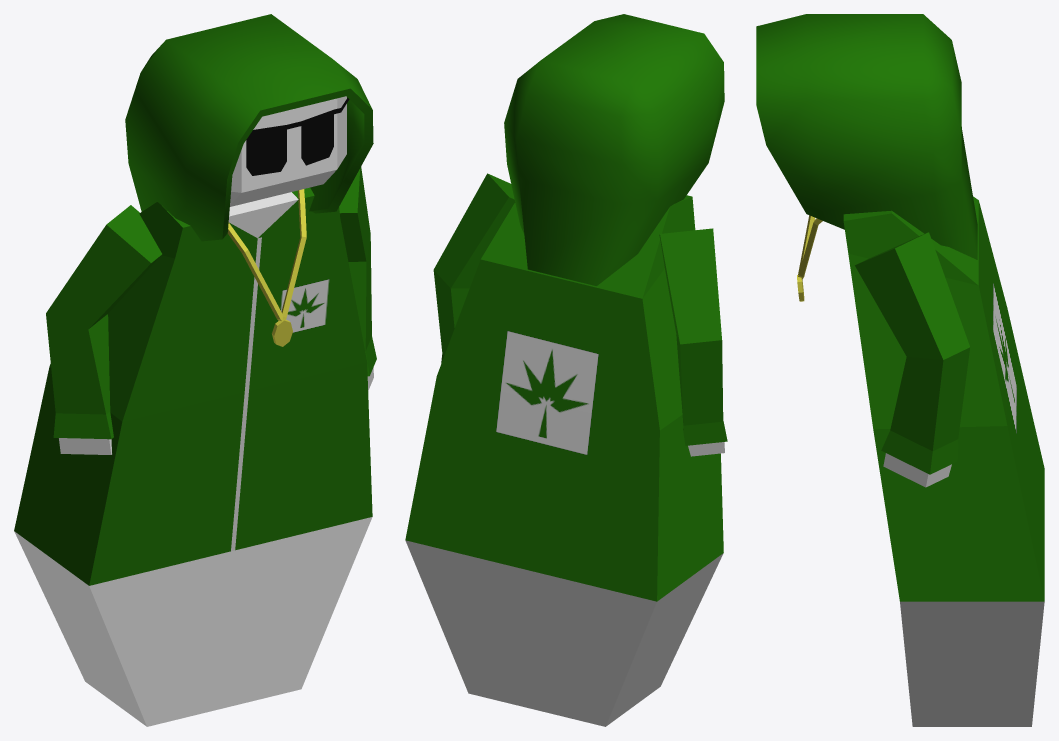
Rendered from buyer.fbx.
3 views of the same model, side by side, from view 1: azimuth 30°, elevation 25°; view 2: azimuth 150°, elevation 25°; view 3: azimuth 270°, elevation 25° (orthographic). The views are drawn at different scales.
Visible parts, largest first — view 1: Cube.037, Cube.040, Cube.039, Cube.036, Cube.038, Circle.004; view 2: Cube.037, Cube.040, Cube.039; view 3: Cube.037, Cube.040, Cube.039, Circle.004.
Part boxes in pixels (<box>): Cube.037: <box>14,187,372,726</box>; Cube.040: <box>125,14,373,241</box>; Cube.039: <box>46,166,376,454</box>; Cube.036: <box>230,96,346,206</box>; Cube.038: <box>246,97,349,175</box>; Circle.004: <box>227,189,306,320</box>; Cube.037: <box>405,195,723,726</box>; Cube.040: <box>504,14,724,285</box>; Cube.039: <box>433,173,727,456</box>; Cube.037: <box>843,196,1044,726</box>; Cube.040: <box>756,14,977,259</box>; Cube.039: <box>855,232,970,487</box>; Circle.004: <box>798,215,822,279</box>.
Size of the model in its own units: 82.79 by 165 by 66.09.
